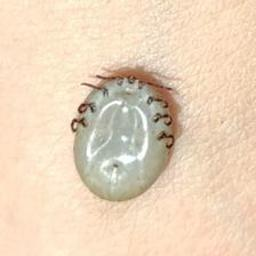Rhipicephalus sanguineus: (68, 74, 176, 201)
